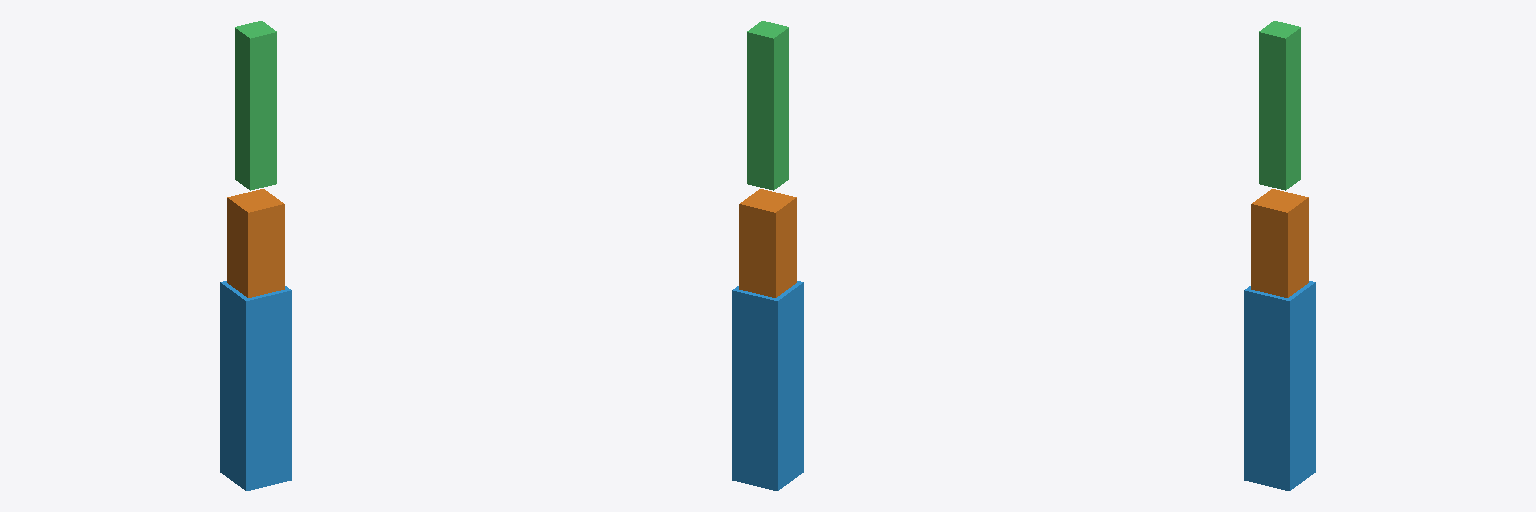
URDF robot description (bello_vcan_demo):
<?xml version="1.0" encoding="utf-8"?>
<robot name="bello_vcan_demo">
  <link name="base">
    <visual>
      <geometry><box size="0.1 0.1 0.4"/></geometry>
      <material name="base-blue"><color rgba="0.25 0.65 0.9 1"/></material>
    </visual>
  </link>
  <link name="first_link">
    <visual>
      <origin xyz="0 0 0.2"/>
      <geometry><box size="0.08 0.08 0.36"/></geometry>
      <material name="link-orange"><color rgba="0.9 0.55 0.2 1"/></material>
    </visual>
  </link>
  <link name="second_link">
    <visual>
      <origin xyz="0 0 0.18"/>
      <geometry><box size="0.06 0.06 0.32"/></geometry>
      <material name="tip-green"><color rgba="0.35 0.8 0.45 1"/></material>
    </visual>
  </link>
  <joint name="emulated_joint_1" type="revolute">
    <parent link="base"/>
    <child link="first_link"/>
    <axis xyz="0 0 1"/>
    <limit lower="-1" upper="1" effort="60" velocity="20"/>
  </joint>
  <joint name="emulated_joint_2" type="revolute">
    <origin xyz="0 0 0.4"/>
    <parent link="first_link"/>
    <child link="second_link"/>
    <axis xyz="0 1 0"/>
    <limit lower="-1" upper="1" effort="60" velocity="20"/>
  </joint>
</robot>

--- Facts derived from the render (not from the file) ---
The picture shows the robot from 3 angles, left to right: view 1: azimuth 30°, elevation 25°; view 2: azimuth 150°, elevation 25°; view 3: azimuth 330°, elevation 25°; orthographic projection.
Robot: bello_vcan_demo — 3 links, 2 joints (2 revolute); root link base; default pose: every joint at zero.
Links seen in each view (by area): view 1: base, second_link, first_link; view 2: base, second_link, first_link; view 3: base, second_link, first_link.
Boxes of the visible links, <box> form: base: <box>220,281,291,490</box>; second_link: <box>235,21,276,190</box>; first_link: <box>227,189,284,297</box>; base: <box>732,281,803,490</box>; second_link: <box>747,21,788,190</box>; first_link: <box>739,189,796,297</box>; base: <box>1244,281,1315,490</box>; second_link: <box>1259,21,1300,190</box>; first_link: <box>1251,189,1308,297</box>.
Size in the robot's own frame: 0.1 by 0.1 by 0.94 metres.
Geometry: primitives only (box / cylinder / sphere), no mesh files.
